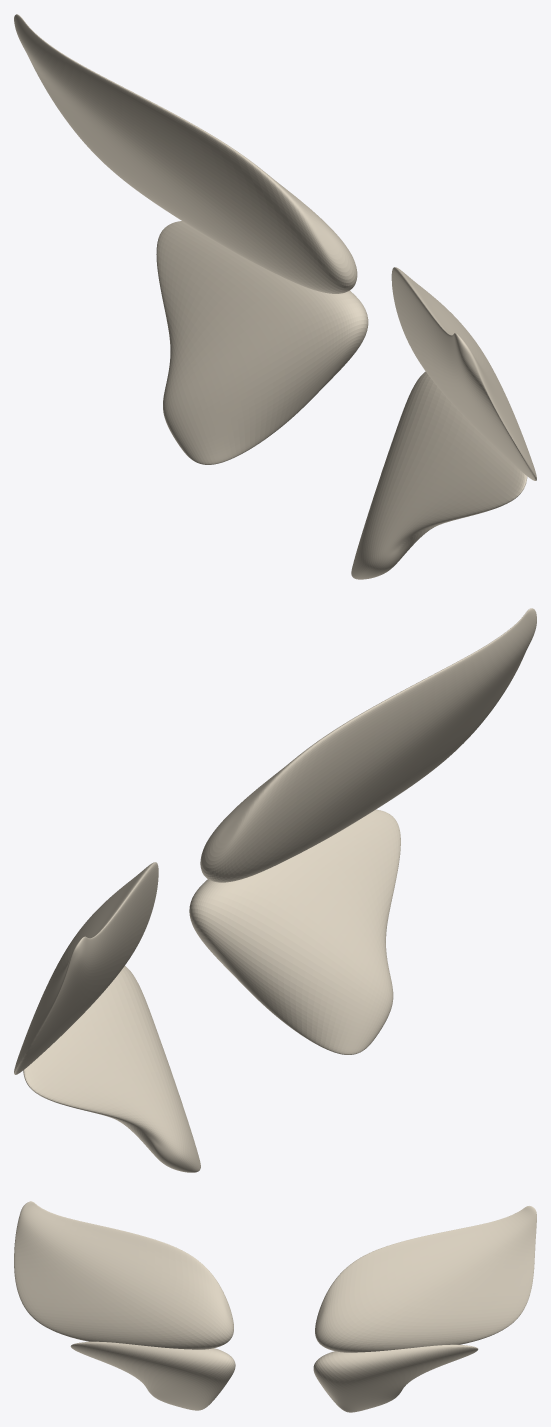
The model's file is ZachWings.glb.
The picture shows the model from 3 angles, top to bottom: view 1: azimuth 30°, elevation 25°; view 2: azimuth 150°, elevation 25°; view 3: azimuth 270°, elevation 25°; orthographic projection. The views are drawn at different scales.
Visible parts, largest first — view 1: ZachWings; view 2: ZachWings; view 3: ZachWings.
Part boxes in pixels (<box>): ZachWings: <box>14,14,536,579</box>; ZachWings: <box>14,608,536,1172</box>; ZachWings: <box>14,1201,536,1412</box>.
Size of the model in its own units: 3.49 by 6.7 by 15.95.
